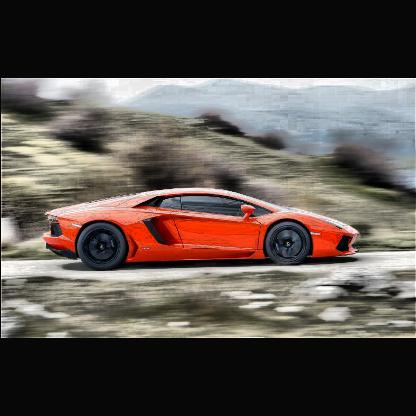Lamborghini Aventador Coupe 2012: (39, 186, 364, 274)
